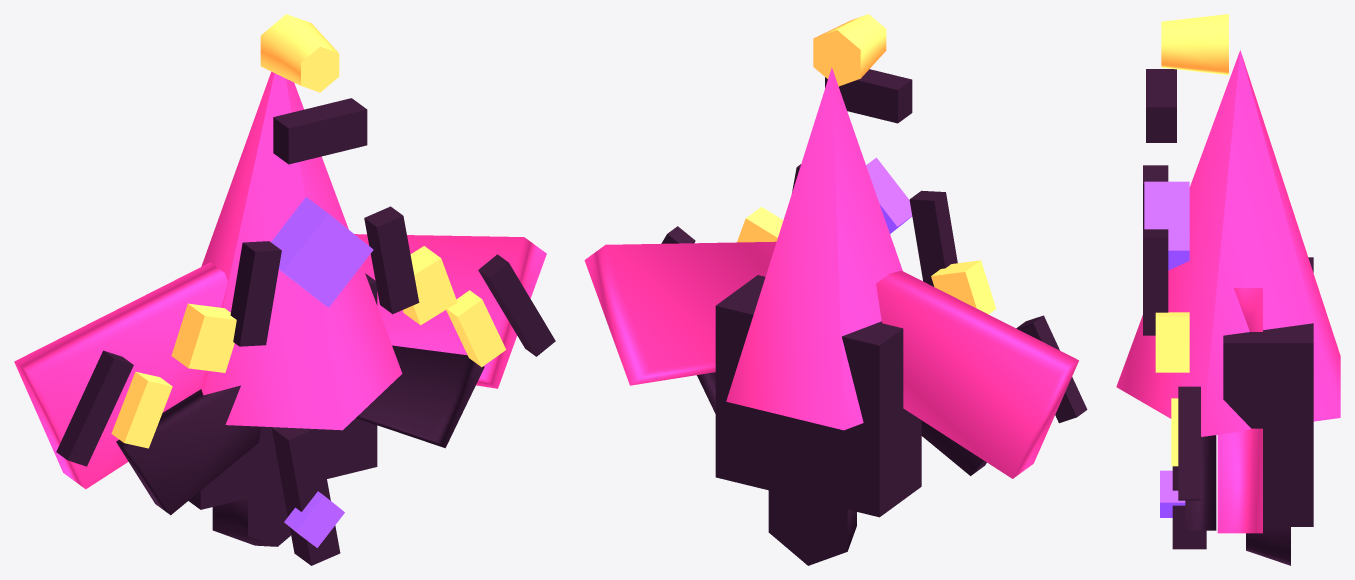
Rendered from enemy-drone.glb.
3 views of the same model, side by side, from view 1: azimuth 30°, elevation 25°; view 2: azimuth 150°, elevation 25°; view 3: azimuth 270°, elevation 25° (orthographic). The views are drawn at different scales.
Visible parts, largest first — view 1: body_core, left_claw_wing, left_inner_winglet, right_claw_wing, right_inner_winglet, rear_block, center_eye, matte_nose_clamp, rear_antenna_fin, micro_muzzle, left_panel_step, left_wing_edge_rail (+8 smaller); view 2: body_core, rear_block, left_claw_wing, right_claw_wing, tail_nozzle, micro_muzzle, left_panel_step, matte_nose_clamp, left_side_sensor, center_eye, left_wing_edge_rail, left_inner_winglet (+1 smaller); view 3: body_core, rear_block, right_claw_wing, micro_muzzle, center_eye, right_wing_edge_rail, right_panel_step, matte_nose_clamp, right_side_sensor, right_inner_winglet, tail_nozzle, rear_antenna_fin (+3 smaller).
Boxes of the visible parts, x1=… form: body_core: x1=201, y1=71, x2=402, y2=430; left_claw_wing: x1=14, y1=262, x2=227, y2=489; left_inner_winglet: x1=116, y1=385, x2=260, y2=515; right_claw_wing: x1=354, y1=234, x2=546, y2=388; right_inner_winglet: x1=356, y1=345, x2=484, y2=448; rear_block: x1=188, y1=273, x2=377, y2=509; center_eye: x1=271, y1=197, x2=373, y2=307; matte_nose_clamp: x1=273, y1=98, x2=367, y2=164; rear_antenna_fin: x1=271, y1=427, x2=340, y2=565; micro_muzzle: x1=260, y1=14, x2=339, y2=92; left_panel_step: x1=230, y1=241, x2=281, y2=346; left_wing_edge_rail: x1=56, y1=350, x2=133, y2=466; body_core: x1=726, y1=67, x2=902, y2=430; rear_block: x1=715, y1=275, x2=921, y2=517; left_claw_wing: x1=876, y1=270, x2=1078, y2=478; right_claw_wing: x1=584, y1=241, x2=776, y2=385; tail_nozzle: x1=768, y1=490, x2=856, y2=565; micro_muzzle: x1=813, y1=14, x2=886, y2=86; left_panel_step: x1=909, y1=190, x2=957, y2=286; matte_nose_clamp: x1=825, y1=69, x2=912, y2=123; left_side_sensor: x1=931, y1=260, x2=996, y2=314; center_eye: x1=866, y1=157, x2=912, y2=233; left_wing_edge_rail: x1=1016, y1=315, x2=1087, y2=423; left_inner_winglet: x1=921, y1=420, x2=986, y2=475; body_core: x1=1116, y1=50, x2=1340, y2=436; rear_block: x1=1223, y1=257, x2=1313, y2=526; right_claw_wing: x1=1217, y1=288, x2=1262, y2=533; micro_muzzle: x1=1161, y1=14, x2=1228, y2=75; center_eye: x1=1144, y1=181, x2=1189, y2=270; right_wing_edge_rail: x1=1178, y1=386, x2=1200, y2=500; right_panel_step: x1=1143, y1=229, x2=1168, y2=335; matte_nose_clamp: x1=1146, y1=69, x2=1176, y2=142; right_side_sensor: x1=1155, y1=312, x2=1189, y2=372; right_inner_winglet: x1=1185, y1=435, x2=1216, y2=530; tail_nozzle: x1=1246, y1=527, x2=1290, y2=565; rear_antenna_fin: x1=1172, y1=466, x2=1206, y2=549.
Size of the model in its own units: 1.04 by 1.08 by 0.398.
